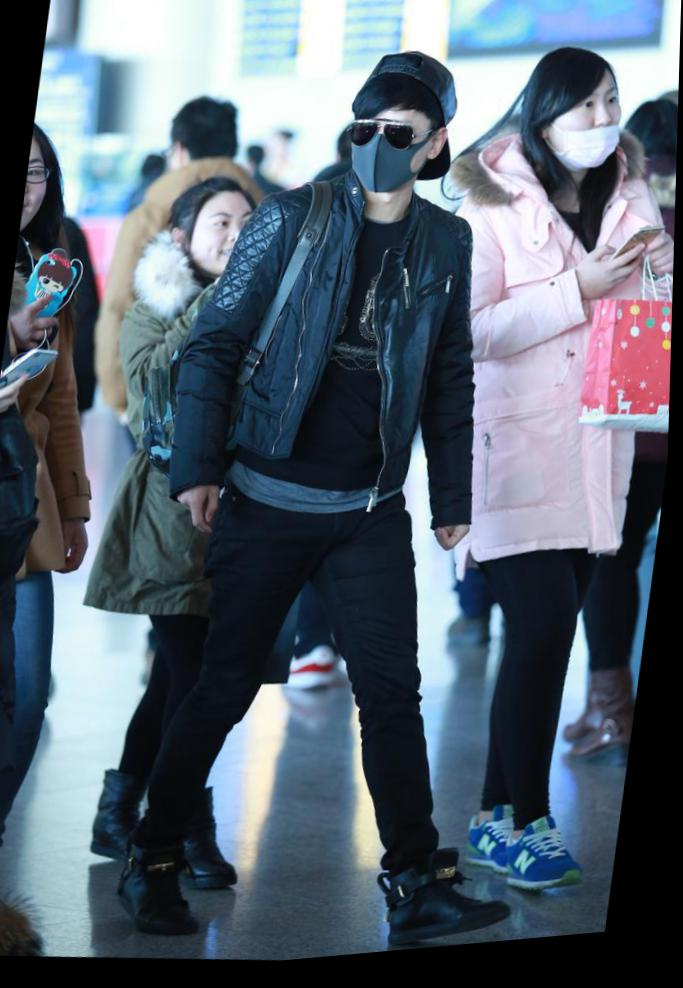NONE: (198, 205, 263, 282)
OK: (346, 114, 427, 213)
WRONG: (546, 91, 632, 181)
